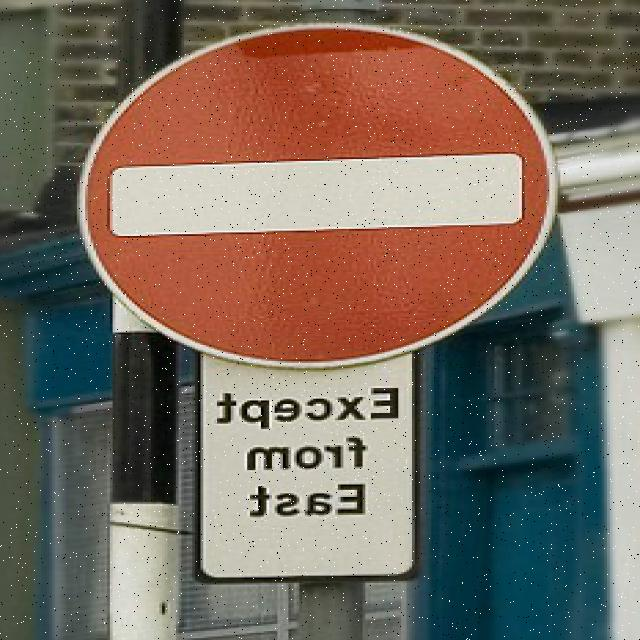no entry: (80, 20, 558, 368)
